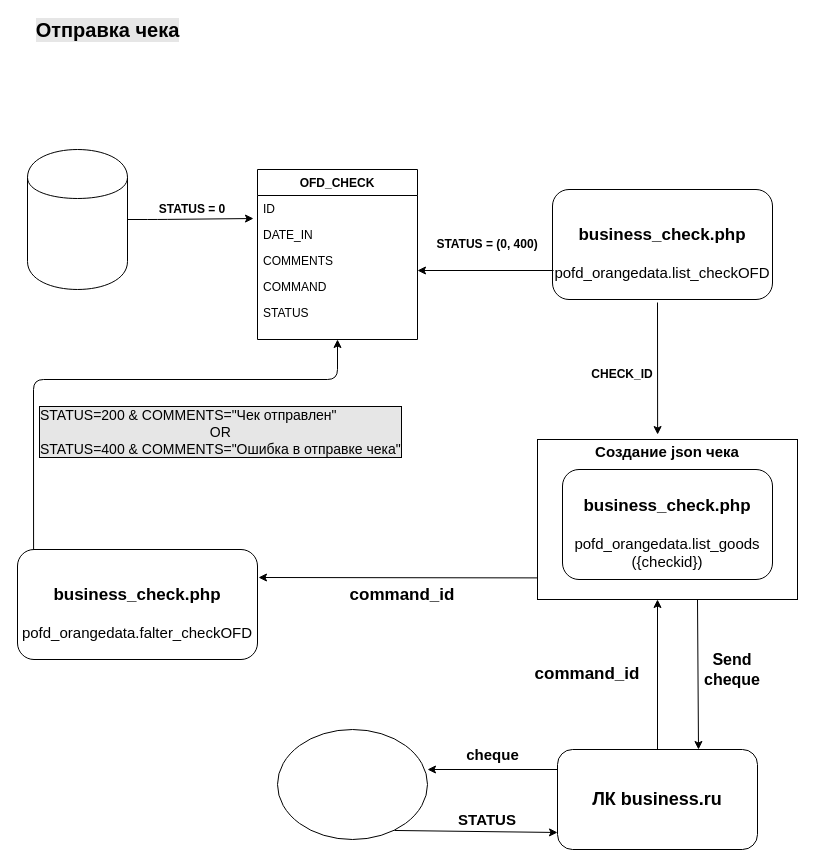
This 815x867 diagram has some shape labels left out. The centre of each missing label's shape, as x and y in pixels:
ОФД: the point at 352,784
Реестр чеков: the point at 77,219
